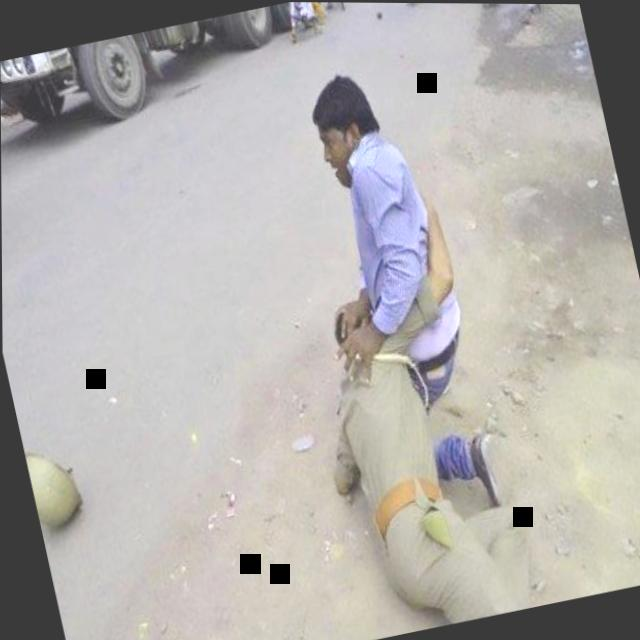Fall-Detected: (288, 262, 570, 640)
